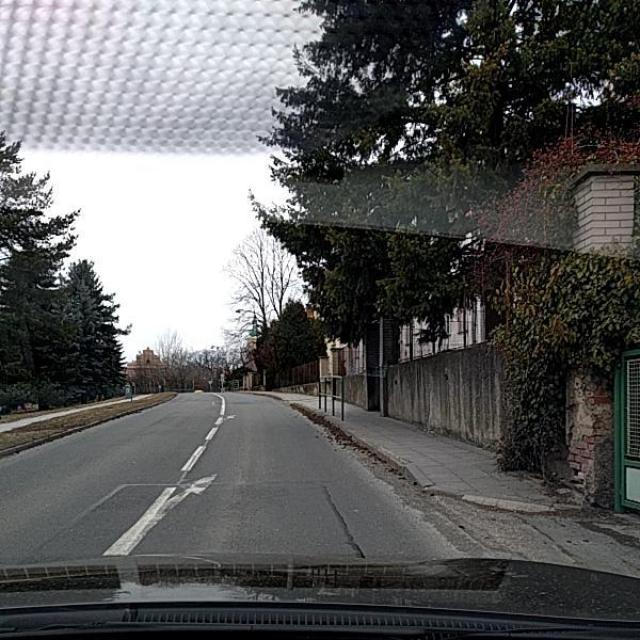Crack: (282, 427, 394, 560)
